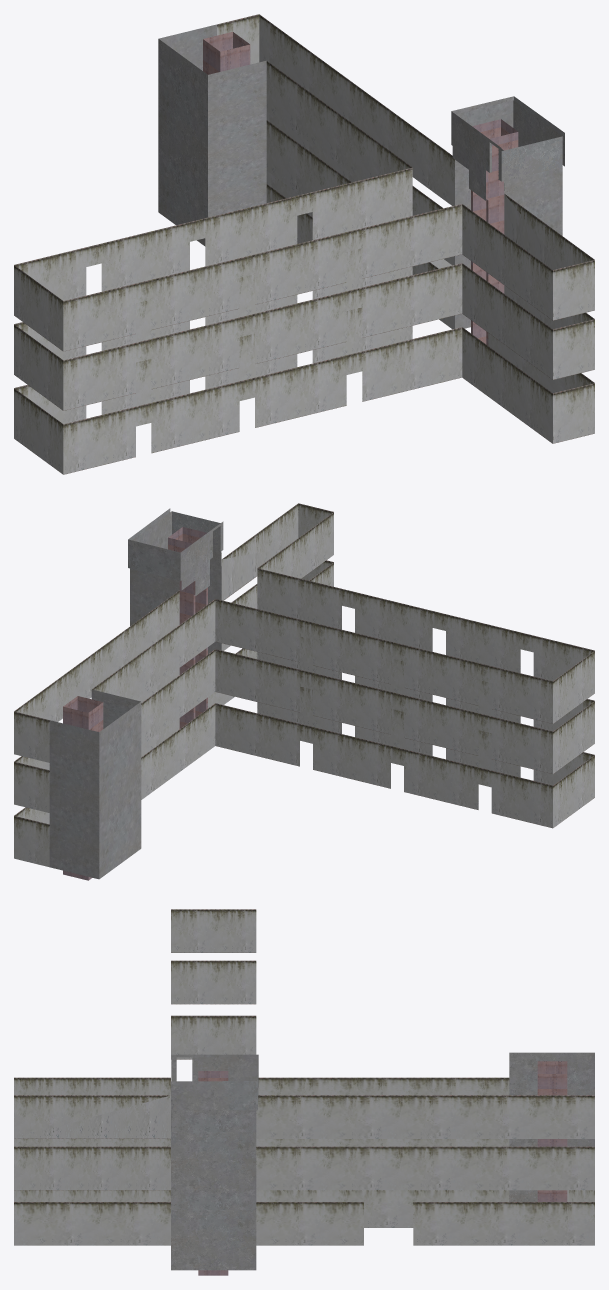
Rendered from PAREDES.fbx.
3 views of the same model, one above another, from view 1: azimuth 30°, elevation 25°; view 2: azimuth 150°, elevation 25°; view 3: azimuth 270°, elevation 25° (orthographic). The views are drawn at different scales.
Parts seen in each view (by area): view 1: PAREDES.005, PAREDES.001, PAREDES.003, PAREDES.002, PAREDES.019, PAREDES.028, PAREDES.027, PAREDES.006, PAREDES.029, PAREDES.004, PAREDES.010, PAREDES.011 (+22 smaller); view 2: PAREDES.002, PAREDES.004, PAREDES.006, PAREDES.001, PAREDES.026, PAREDES.027, PAREDES.019, PAREDES.005, PAREDES.029, PAREDES.003, PAREDES.030, PAREDES.031 (+19 smaller); view 3: PAREDES.020, PAREDES.019, ELEVADOR Y PILAR.009, PAREDES.022, PAREDES.017, PAREDES.016, PAR.007, PAREDES.029, PAREDES.021, PAREDES.031, PAREDES.008, PAREDES.007 (+10 smaller).
Part boxes in pixels (x1=…): PAREDES.005: x1=63, y1=327, x2=462, y2=474; PAREDES.001: x1=63, y1=204, x2=462, y2=351; PAREDES.003: x1=63, y1=263, x2=462, y2=410; PAREDES.002: x1=14, y1=167, x2=412, y2=300; PAREDES.019: x1=259, y1=14, x2=454, y2=205; PAREDES.028: x1=208, y1=60, x2=266, y2=217; PAREDES.027: x1=158, y1=39, x2=207, y2=246; PAREDES.006: x1=14, y1=307, x2=412, y2=424; PAREDES.029: x1=266, y1=61, x2=412, y2=179; PAREDES.004: x1=14, y1=248, x2=412, y2=360; PAREDES.010: x1=462, y1=204, x2=552, y2=320; PAREDES.011: x1=462, y1=263, x2=552, y2=379; PAREDES.002: x1=215, y1=599, x2=552, y2=723; PAREDES.004: x1=215, y1=649, x2=552, y2=773; PAREDES.006: x1=215, y1=703, x2=552, y2=828; PAREDES.001: x1=257, y1=568, x2=594, y2=680; PAREDES.026: x1=49, y1=720, x2=99, y2=879; PAREDES.027: x1=99, y1=702, x2=141, y2=878; PAREDES.019: x1=14, y1=590, x2=179, y2=721; PAREDES.005: x1=257, y1=686, x2=594, y2=785; PAREDES.029: x1=92, y1=599, x2=215, y2=699; PAREDES.003: x1=257, y1=636, x2=594, y2=731; PAREDES.030: x1=141, y1=649, x2=215, y2=745; PAREDES.031: x1=141, y1=703, x2=215, y2=799; PAREDES.020: x1=256, y1=1146, x2=594, y2=1190; PAREDES.019: x1=256, y1=1095, x2=594, y2=1138; ELEVADOR Y PILAR.009: x1=171, y1=1110, x2=256, y2=1270; PAREDES.022: x1=413, y1=1202, x2=594, y2=1245; PAREDES.017: x1=14, y1=1146, x2=170, y2=1190; PAREDES.016: x1=14, y1=1095, x2=170, y2=1138; PAR.007: x1=14, y1=1202, x2=170, y2=1245; PAREDES.029: x1=258, y1=1077, x2=509, y2=1095; PAREDES.021: x1=256, y1=1202, x2=363, y2=1245; PAREDES.031: x1=256, y1=1190, x2=509, y2=1227; PAREDES.008: x1=171, y1=960, x2=256, y2=1004; PAREDES.007: x1=171, y1=909, x2=256, y2=952.
Bounding box in the file's own units: 4097 × 1863 × 4729.
3 materials, 3 textured.
